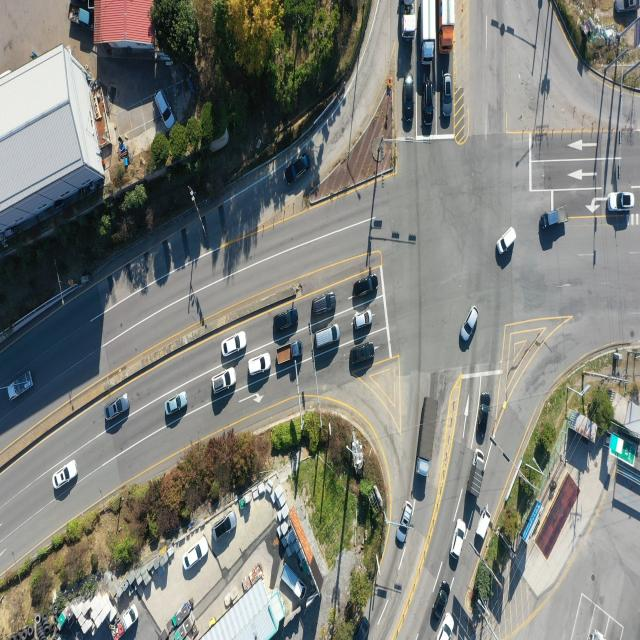car: (184, 540, 210, 572), (157, 88, 176, 129), (434, 580, 452, 623), (477, 393, 492, 444), (54, 462, 79, 490), (349, 342, 375, 368), (104, 394, 129, 421), (213, 511, 236, 540), (397, 502, 412, 546), (451, 519, 467, 560), (223, 333, 247, 359), (461, 307, 478, 343), (314, 324, 339, 348), (212, 368, 236, 393), (274, 312, 300, 335), (496, 228, 516, 257), (352, 276, 378, 298), (609, 192, 636, 213), (423, 74, 434, 125), (312, 292, 336, 315), (476, 508, 492, 542), (406, 74, 416, 127), (249, 352, 271, 376), (443, 74, 454, 119), (166, 392, 187, 414), (613, 0, 640, 15), (354, 311, 372, 329)
medium_truck: (418, 393, 438, 477), (420, 0, 440, 63), (437, 0, 455, 53), (403, 0, 417, 41)
small_truck: (110, 606, 139, 640), (470, 448, 488, 498), (281, 568, 310, 594), (7, 370, 32, 400), (286, 155, 309, 185), (276, 341, 302, 366), (68, 1, 92, 28), (540, 208, 565, 228)
